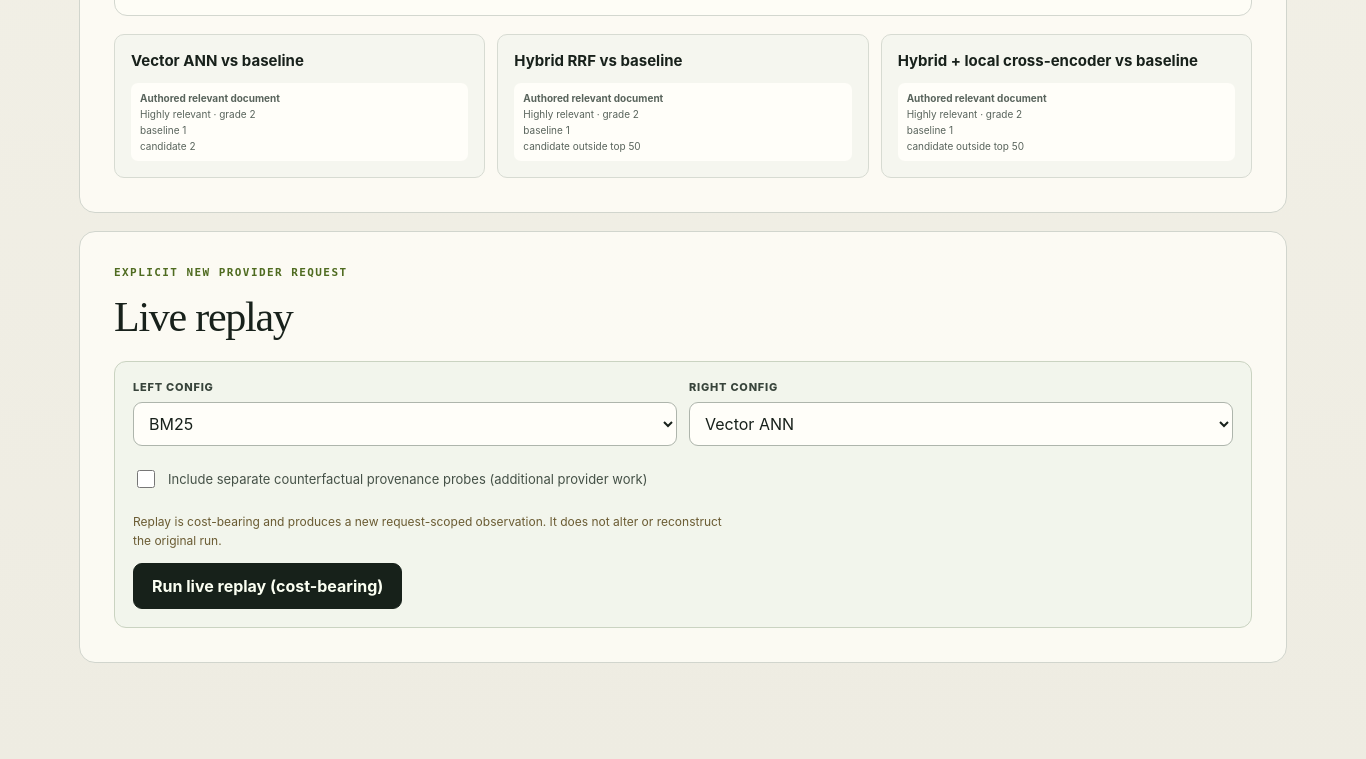
Test: QueryDetailPage › announces and aborts an in-flight explicit replay on unmount
(page scrolled)
What coordinates should you click on to do the following:
click the button "Run live replay (cost-bearing)"
I would click on:
 (268, 586)
Its box is x1=133 y1=563 x2=402 y2=609.
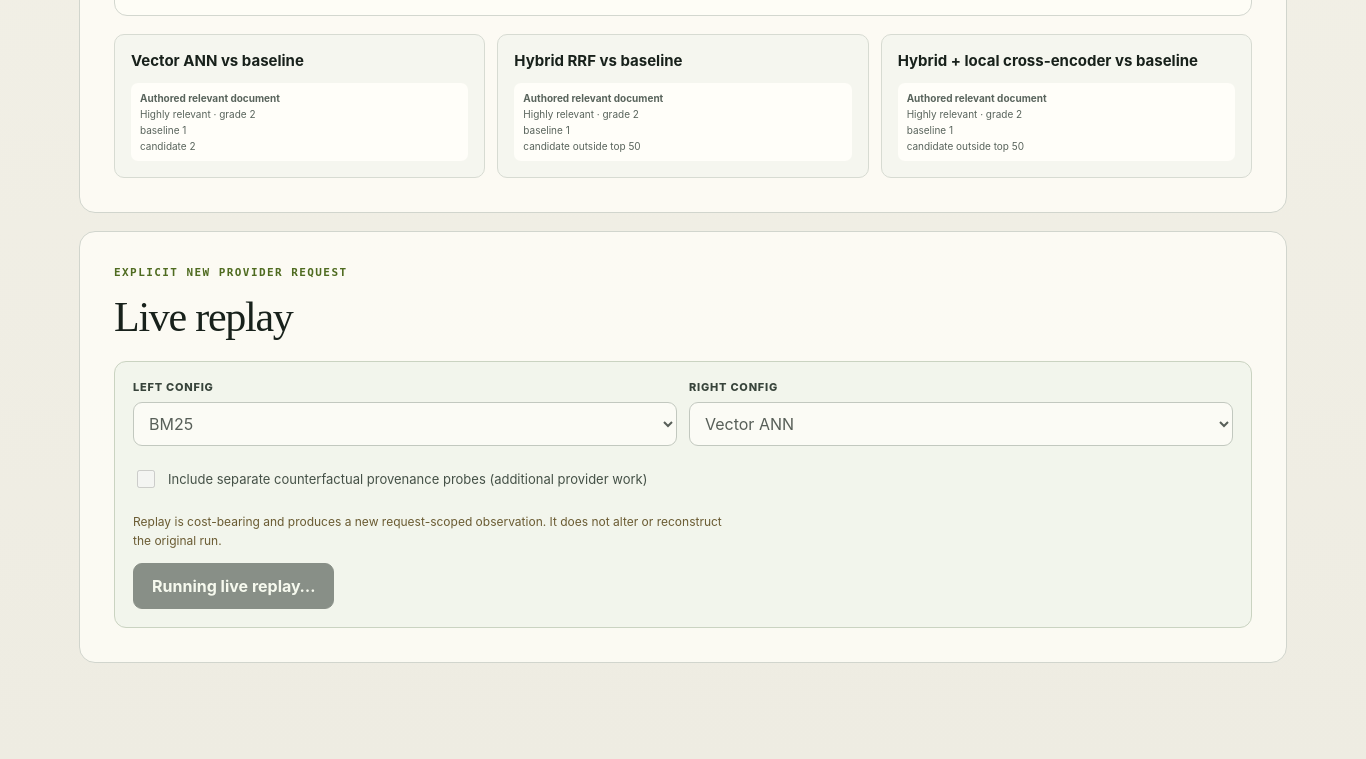
Now the button "Running live replay…" is disabled, box x1=133 y1=563 x2=334 y2=609
